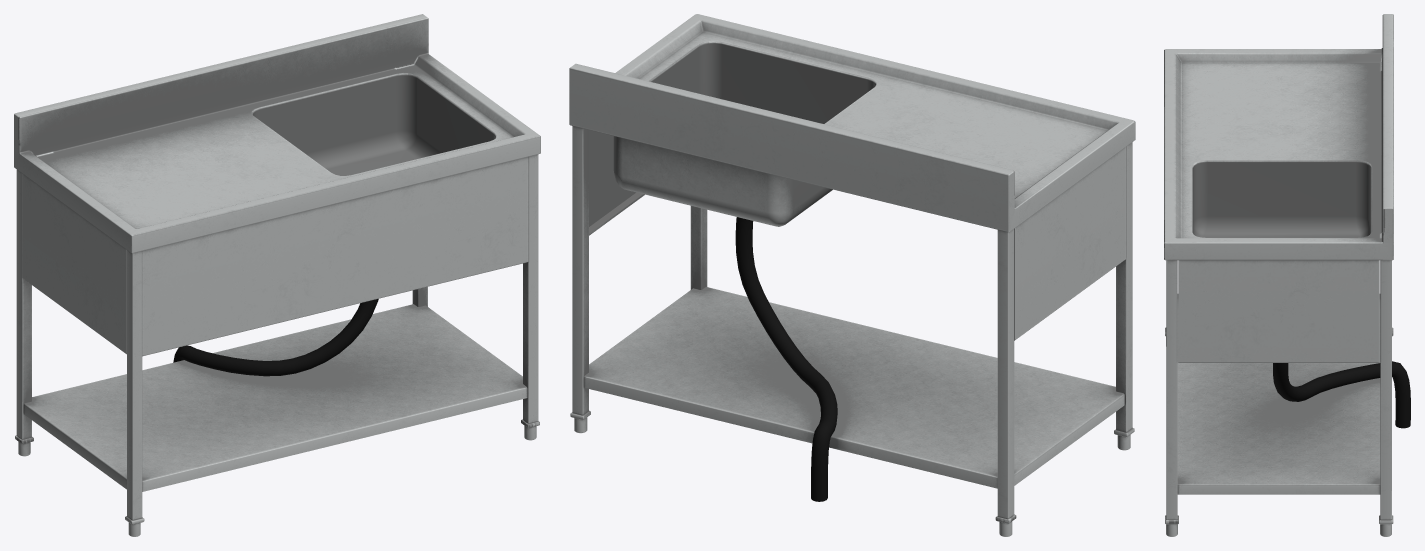
Rendered from Sink_01.FBX.
3 views of the same model, side by side, from view 1: azimuth 30°, elevation 25°; view 2: azimuth 150°, elevation 25°; view 3: azimuth 270°, elevation 25° (orthographic). The views are drawn at different scales.
Visible parts, largest first — view 1: Sink_01; view 2: Sink_01; view 3: Sink_01.
Part boxes in pixels (left/top/right/bottom): Sink_01: left=14, top=14, right=540, bottom=536; Sink_01: left=569, top=14, right=1135, bottom=536; Sink_01: left=1164, top=14, right=1410, bottom=536.
Bounding box in the file's own units: 120 × 95.04 × 64.42.
Materials: 1 (1 with a texture image).
